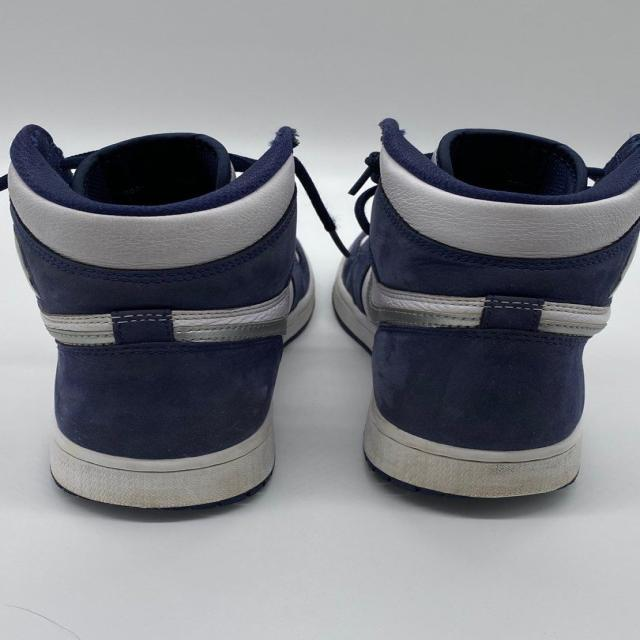nike original jordan 1: (326, 112, 640, 506), (2, 128, 312, 520)
